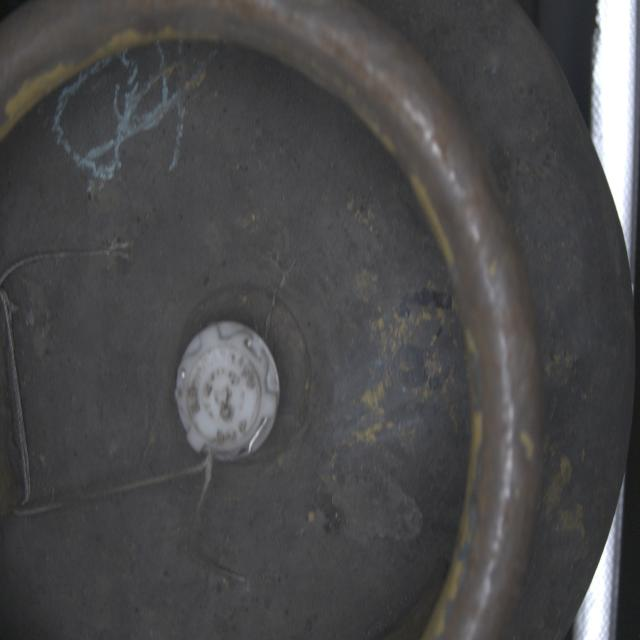Cap: (174, 317, 284, 461)
